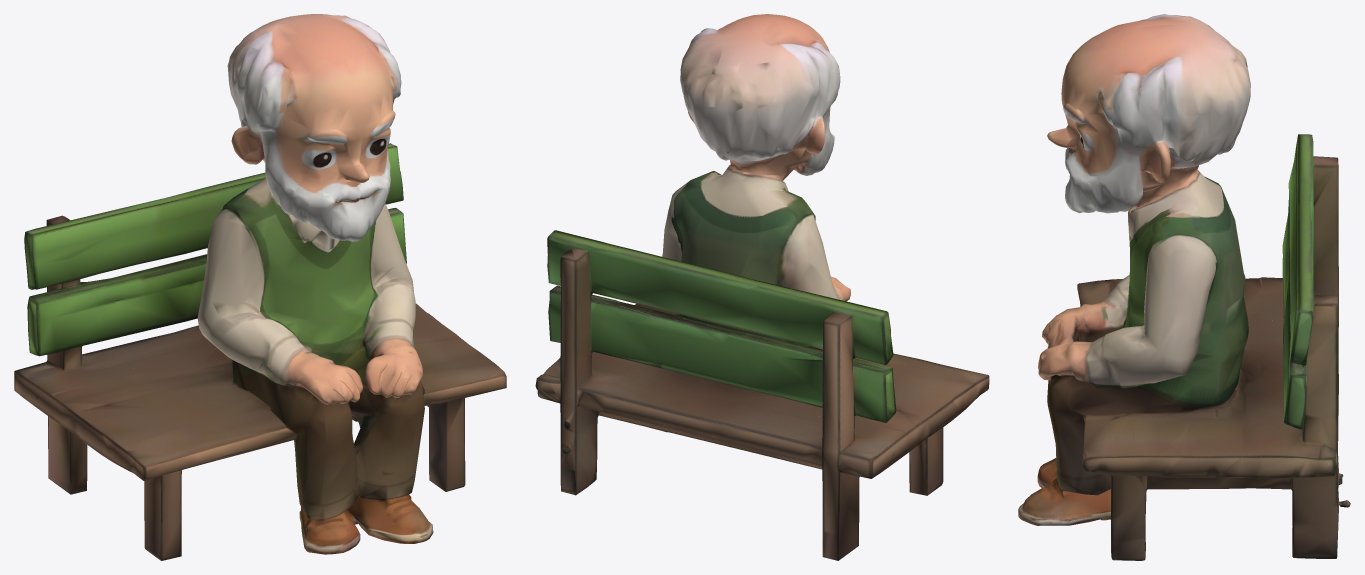
File: Grandpa.glb
The picture shows the model from 3 angles, left to right: view 1: azimuth 30°, elevation 25°; view 2: azimuth 150°, elevation 25°; view 3: azimuth 270°, elevation 25°; orthographic projection. The views are drawn at different scales.
Bounding box in the file's own units: 1.62 × 2 × 1.28.
1 material, 1 textured.
